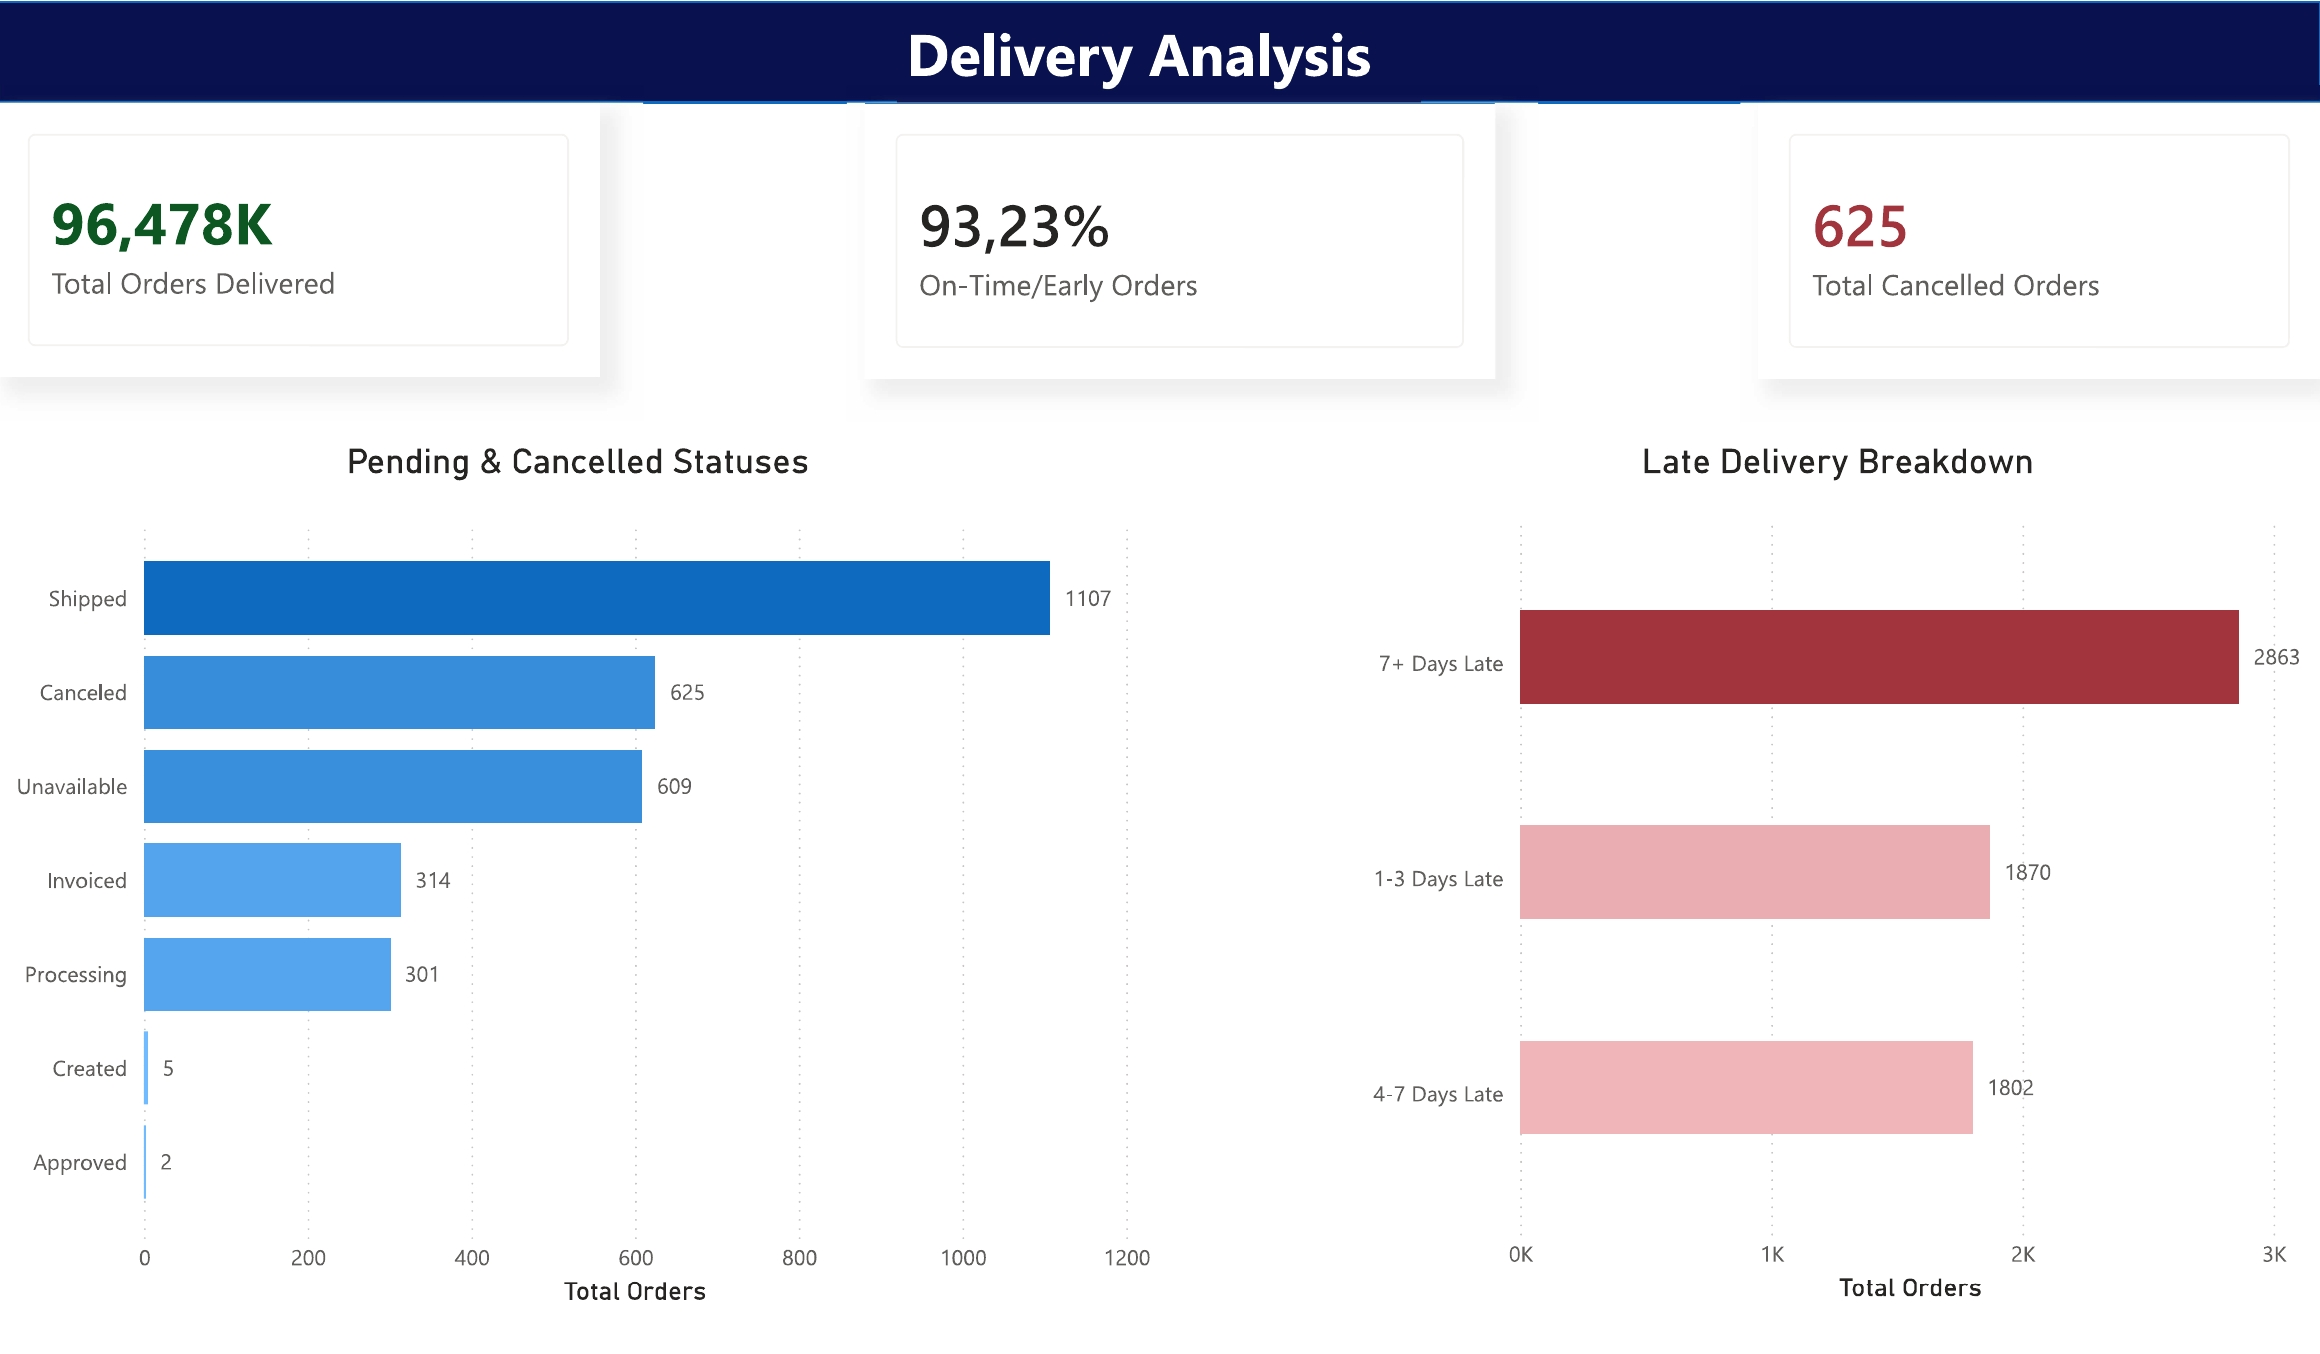

The page's visual inventory and layout, read from the dashboard file:
{"tool":"powerbi","page":{"name":"Page 4","canvas":[1280,720],"ordinal":3},"visuals":[{"type":"shape","box":[0,0,1280,55.9],"z":0},{"type":"cardVisual","fields":{"Data":["order_status_funnel.Total Orders Delivered"]},"box":[0,55.8,332.4,150.5],"z":0,"group":"g1"},{"type":"textbox","box":[496,1.3,287.9,55],"z":1000},{"type":"cardVisual","fields":{"Data":["estimated_vs_actual_delivery_performance.On-Time/Early Delivery Rate"]},"box":[477.5,55.8,347.7,151.7],"z":1000,"group":"g1"},{"type":"cardVisual","fields":{"Data":["order_status_funnel.Total Canceled Orders"]},"box":[970.3,55.8,309.7,151.7],"z":2000,"group":"g1"},{"type":"barChart","title":"Pending & Cancelled Statuses","fields":{"Y":["Sum(order_status_funnel.total_orders)"],"Category":["order_status_funnel.order_status_clean"]},"box":[0,242.3,639.6,481.7],"z":2000},{"type":"barChart","title":"Late Delivery Breakdown","fields":{"Y":["Sum(estimated_vs_actual_delivery_performance.total_orders)"],"Category":["estimated_vs_actual_delivery_performance.Delivery Status (Clean)"]},"box":[746.8,242.3,534.3,479.7],"z":3000},{"type":"group","id":"g1","title":"Group 1","box":[0,55.8,1280,151.7],"z":4000}]}

Visuals, with their boxes on the page's 1280x720 design canvas (x1, y1, x2, y2). These are canvas units, not pixel positions in the 2320x1354 screenshot, which may show the page scaled, cropped or inside an application window:
shape: select_region(0, 0, 1280, 56)
cardVisual - order_status_funnel.Total Orders Delivered: select_region(0, 56, 332, 206)
textbox: select_region(496, 1, 784, 56)
cardVisual - estimated_vs_actual_delivery_performance.On-Time/Early Delivery Rate: select_region(478, 56, 825, 208)
cardVisual - order_status_funnel.Total Canceled Orders: select_region(970, 56, 1280, 208)
"Pending & Cancelled Statuses" barChart: select_region(0, 242, 640, 724)
"Late Delivery Breakdown" barChart: select_region(747, 242, 1281, 722)
"Group 1" group: select_region(0, 56, 1280, 208)
